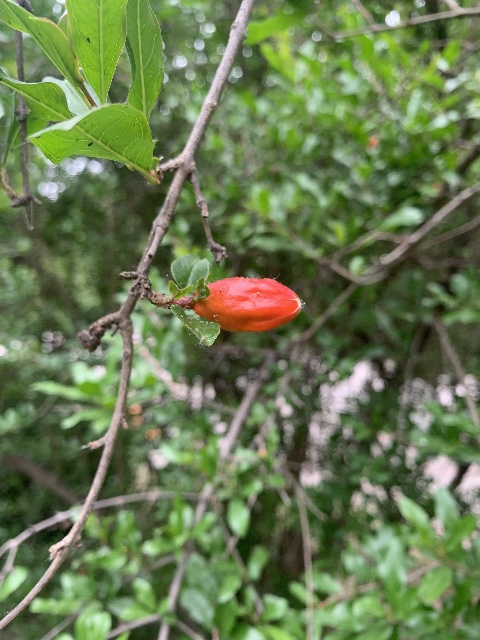bud: (192, 276, 301, 332)
